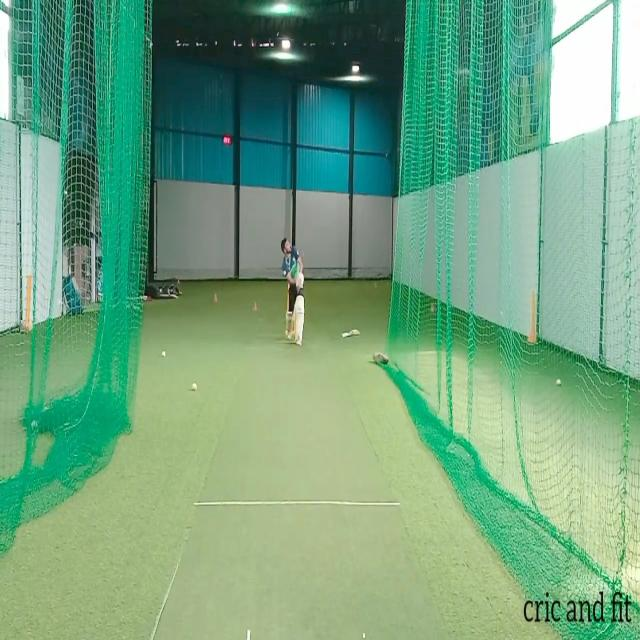batsman: (280, 236, 306, 346)
